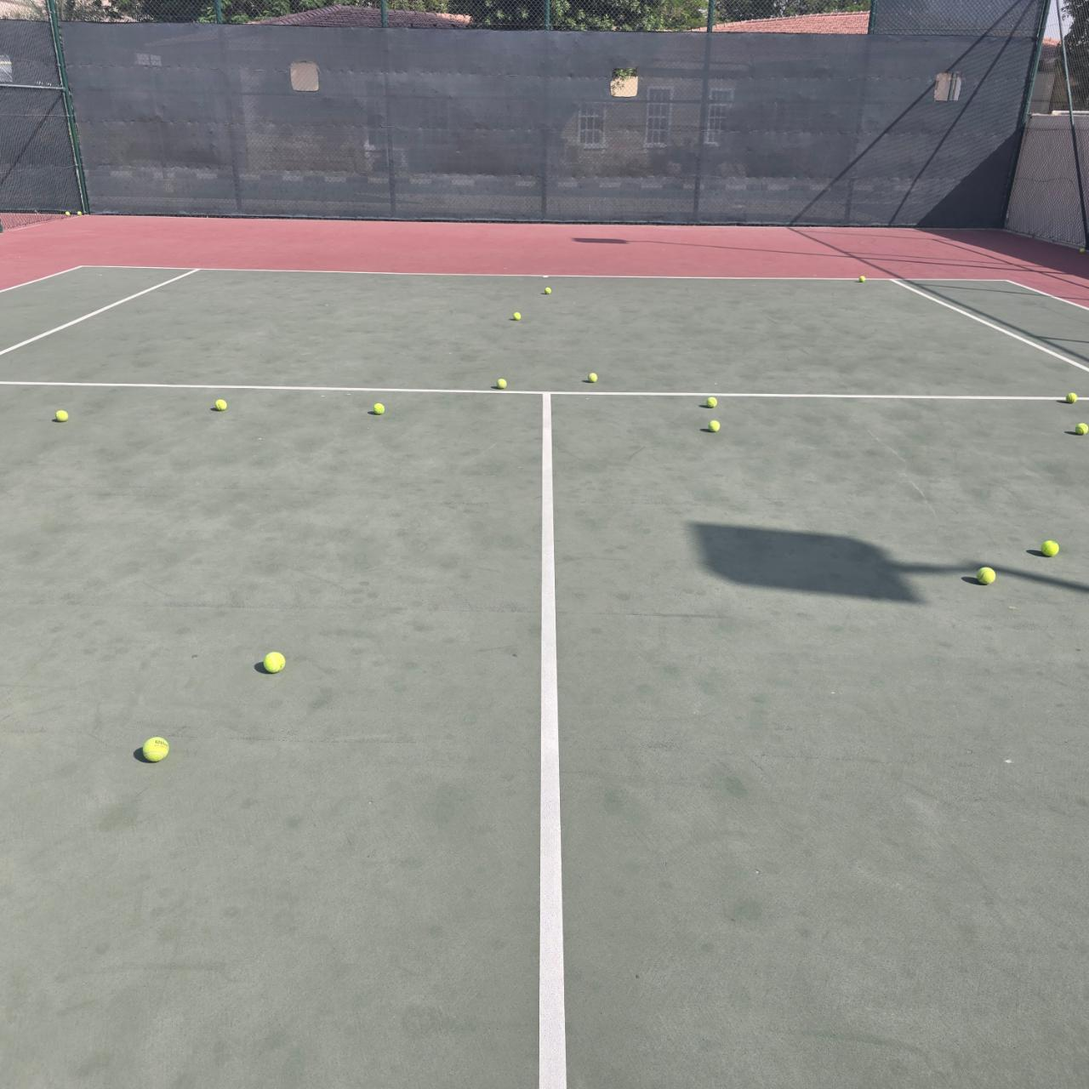tennis-ball: (140, 733, 169, 762), (261, 648, 286, 673), (977, 566, 995, 584), (1041, 539, 1059, 556), (52, 408, 68, 423), (212, 396, 227, 411), (371, 401, 386, 415), (707, 418, 721, 432), (704, 396, 719, 408), (495, 376, 508, 389), (1075, 423, 1088, 435), (587, 371, 599, 383), (1066, 392, 1077, 403), (513, 312, 522, 321), (544, 287, 551, 294), (859, 276, 866, 282), (65, 211, 70, 216), (77, 211, 82, 216)
